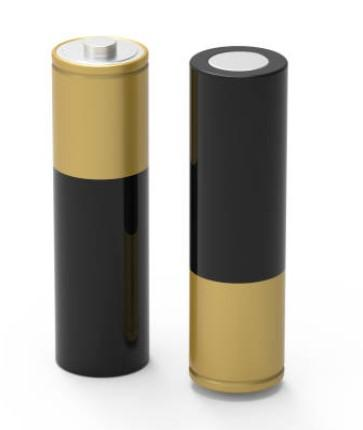Battery: (190, 46, 288, 394), (52, 36, 149, 376)
